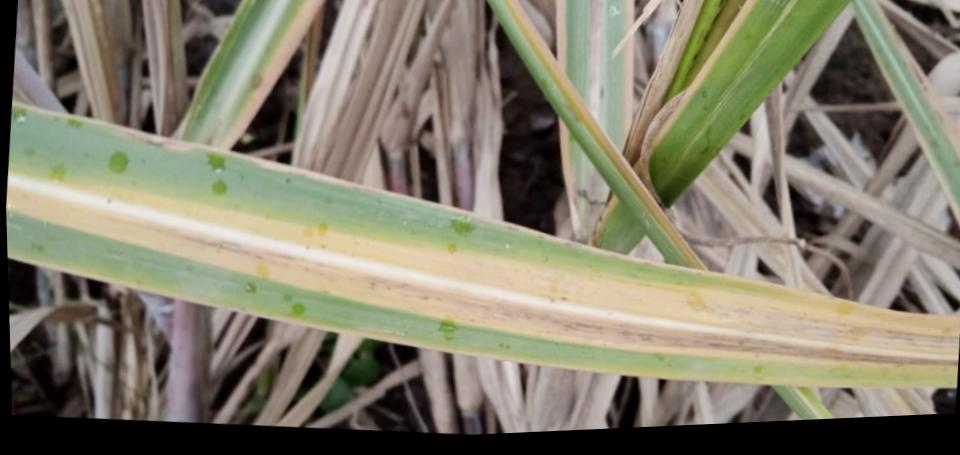Rust: (548, 296, 556, 305), (319, 242, 328, 250), (560, 295, 568, 301), (305, 243, 310, 250), (107, 197, 112, 203)
Yellow: (7, 184, 959, 373), (42, 178, 960, 355)
